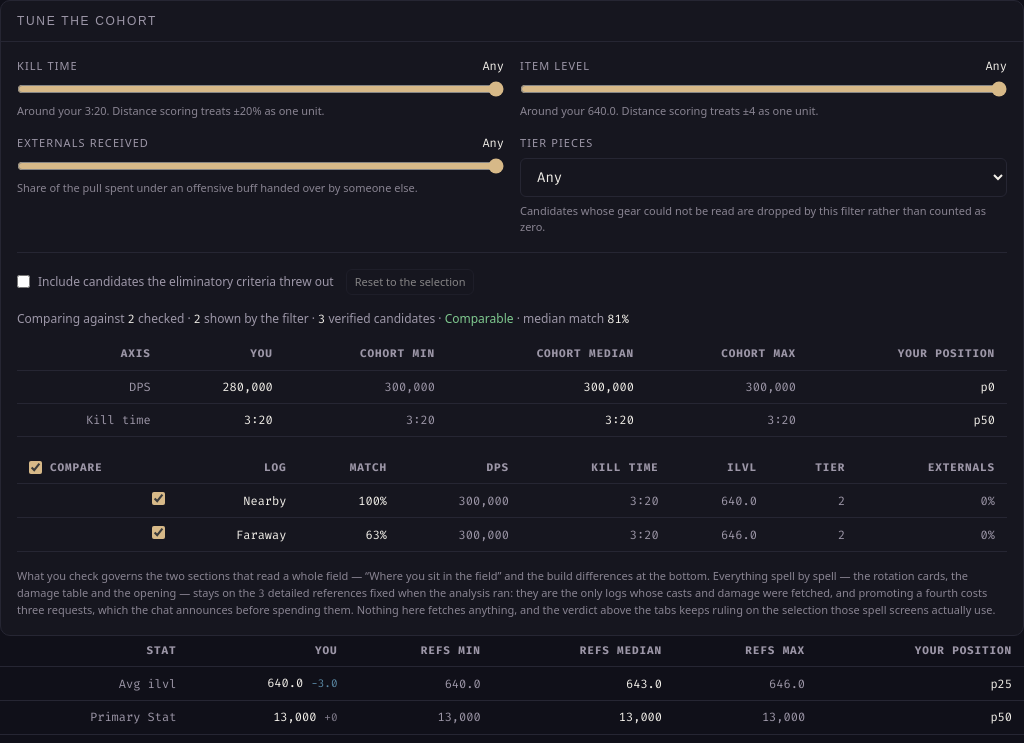
Test: cohortFilterPanel › names it just as well when a slider is what threw it out
Set the slider labelled "Item level Any" to "0" at (528, 88), box [520,80,1007,96]
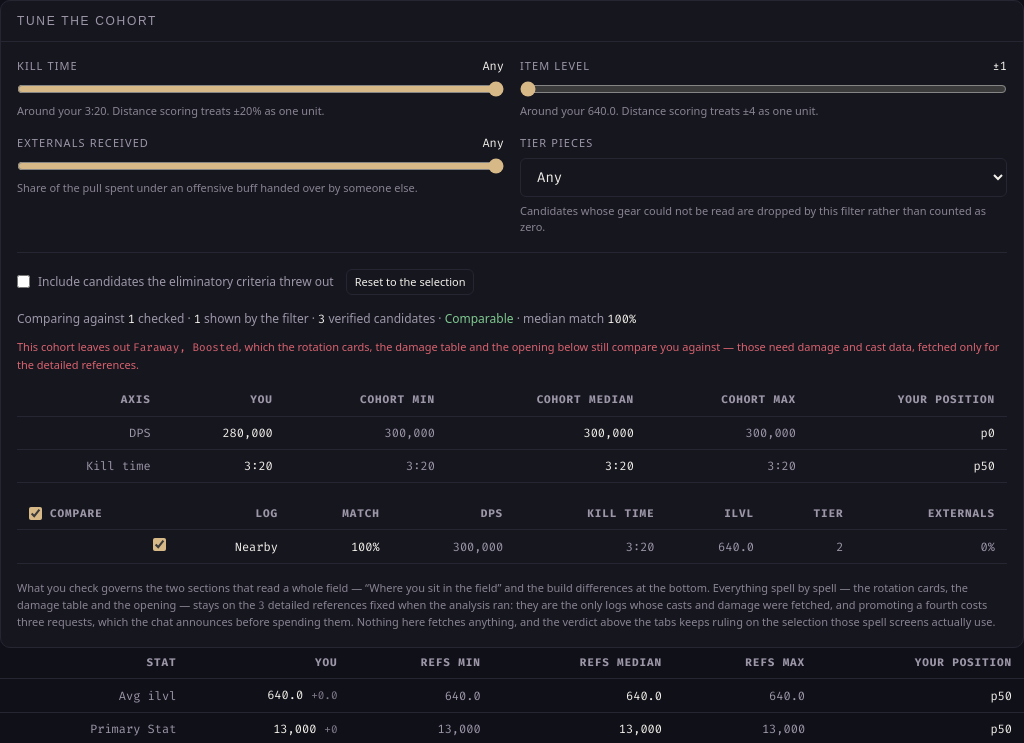
Expected: the text "still compare you against" shows "Faraway", [133,340,239,355]
